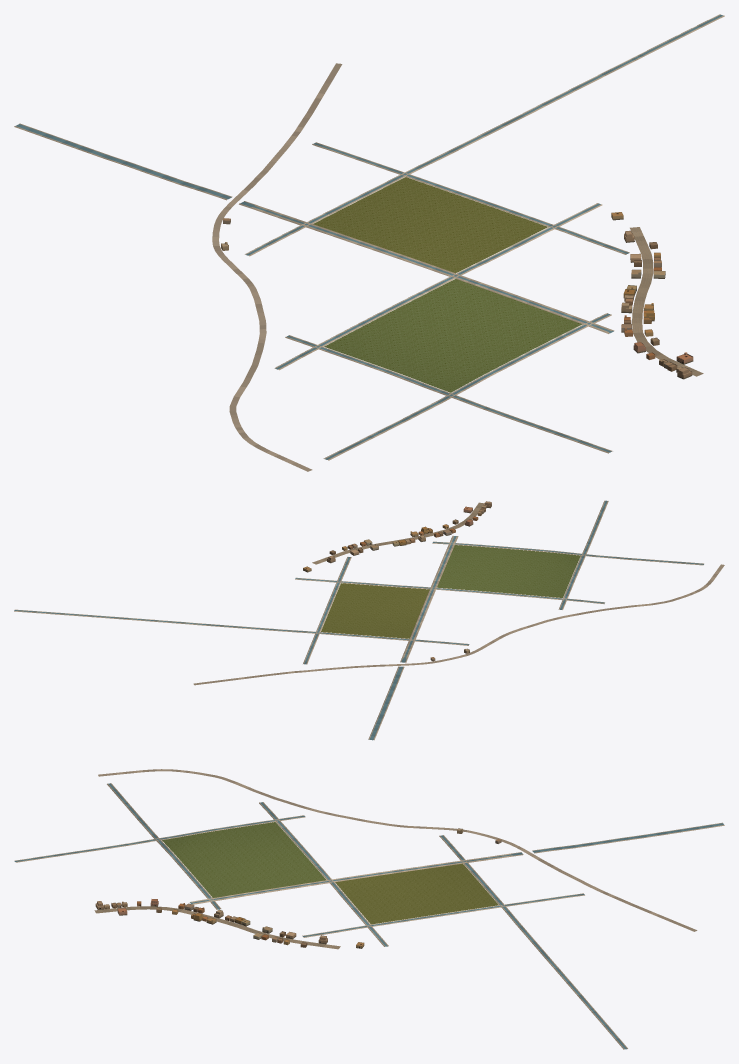
File: uruk_quarter_01.glb
3 views of the same model, one above another, from view 1: azimuth 30°, elevation 25°; view 2: azimuth 150°, elevation 25°; view 3: azimuth 270°, elevation 25° (orthographic). The views are drawn at different scales.
Parts seen in each view (by area): view 1: uruk_quarter_01; view 2: uruk_quarter_01; view 3: uruk_quarter_01.
Boxes of the visible parts, x1,y1,x2,y2 form: uruk_quarter_01: (14, 14, 724, 471); uruk_quarter_01: (14, 500, 724, 740); uruk_quarter_01: (14, 769, 724, 1049).
Bounding box in the file's own units: 883 × 11.49 × 940.
9 materials, 5 textured.
